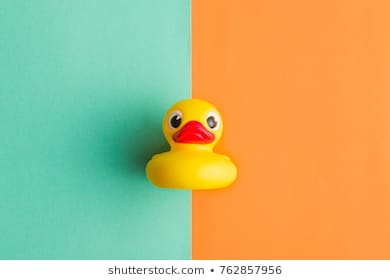duck: (129, 87, 257, 196)
